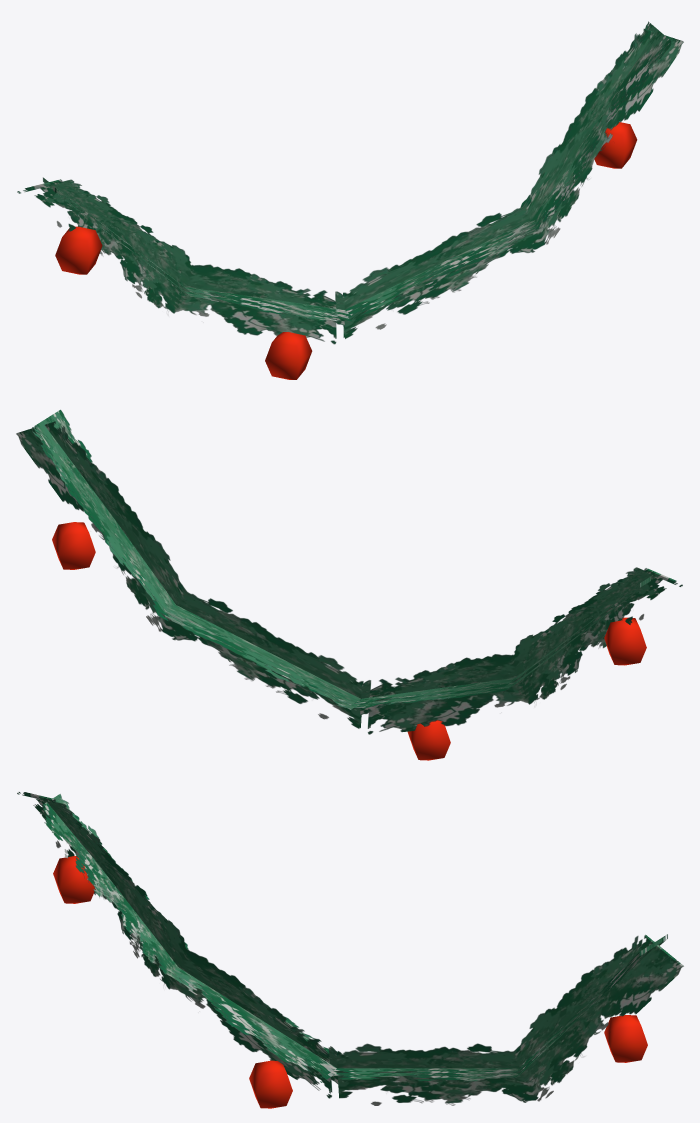
File: pm-wreaths-05.glb
3 views of the same model, one above another, from view 1: azimuth 30°, elevation 25°; view 2: azimuth 150°, elevation 25°; view 3: azimuth 330°, elevation 25° (orthographic).
Parts seen in each view (by area): view 1: Wreaths05; view 2: Wreaths05; view 3: Wreaths05.
Boxes of the visible parts, left/top/right/bottom form: Wreaths05: left=17, top=21, right=683, bottom=379; Wreaths05: left=16, top=409, right=682, bottom=760; Wreaths05: left=17, top=792, right=683, bottom=1108.
Bounding box in the file's own units: 4.46 × 1.68 × 0.4773.
2 materials, 2 textured.
